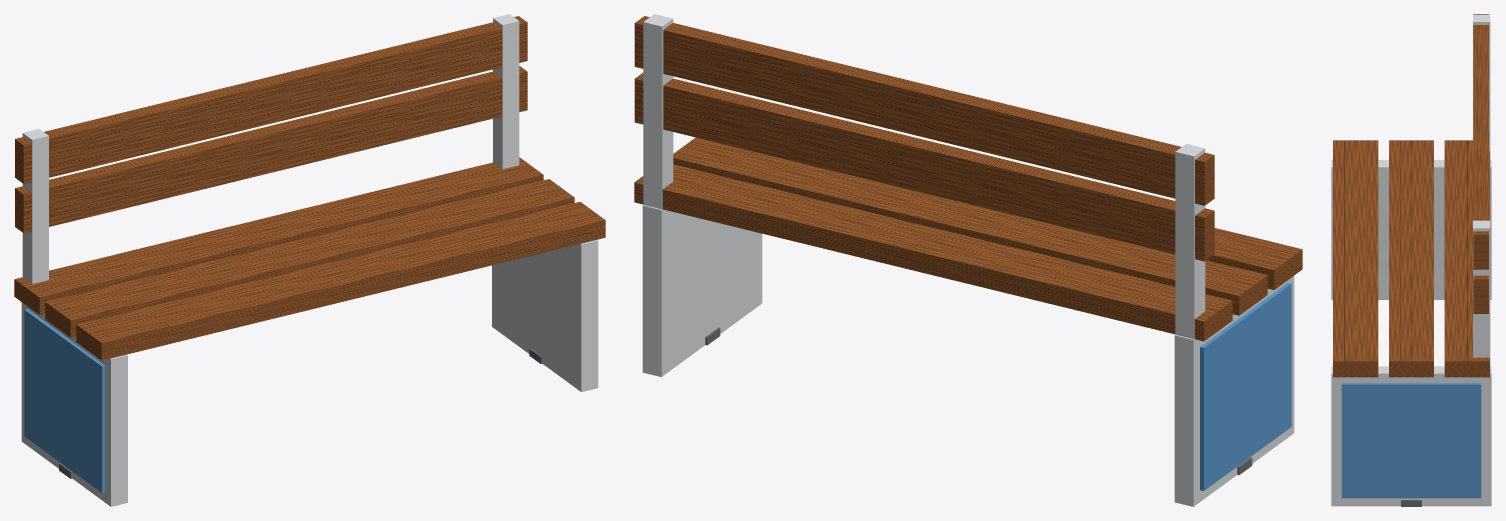
File: boarding-kennels-and-cattery-boarding-kennels-and-catt-4b044c6b__35569.glb
3 views of the same model, side by side, from view 1: azimuth 30°, elevation 25°; view 2: azimuth 150°, elevation 25°; view 3: azimuth 270°, elevation 25° (orthographic). The views are drawn at different scales.
Visible parts, largest first — view 1: boarding-kennels-and-cattery-waiting-bench; view 2: boarding-kennels-and-cattery-waiting-bench; view 3: boarding-kennels-and-cattery-waiting-bench.
Boxes of the visible parts, left/top/right/bottom form: boarding-kennels-and-cattery-waiting-bench: left=14, top=14, right=605, bottom=506; boarding-kennels-and-cattery-waiting-bench: left=634, top=14, right=1302, bottom=506; boarding-kennels-and-cattery-waiting-bench: left=1331, top=14, right=1491, bottom=506.
Size of the model in its own units: 1.5 by 0.88 by 0.4601.
4 materials, 1 textured.
